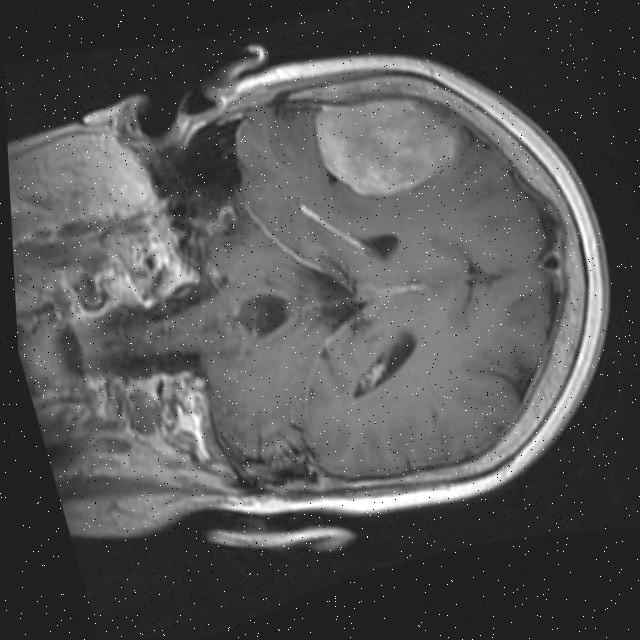Meningioma: (301, 67, 471, 211)
